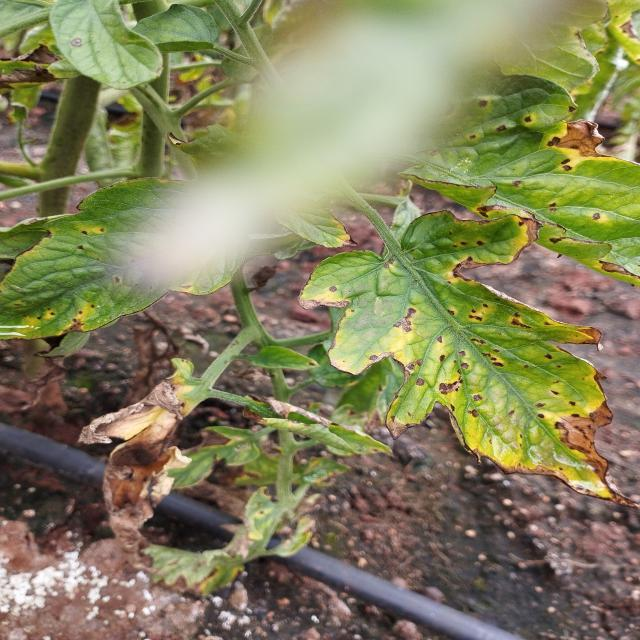Tomato mosaic virus leaf: (287, 247, 617, 442), (462, 74, 640, 288), (30, 218, 156, 350)
